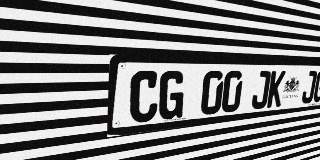0: (200, 71, 225, 116), (221, 71, 244, 113)
C: (129, 71, 160, 124)
G: (157, 71, 186, 120), (312, 71, 320, 103)
J: (251, 71, 271, 110), (301, 71, 318, 104)
K: (266, 71, 286, 108)
